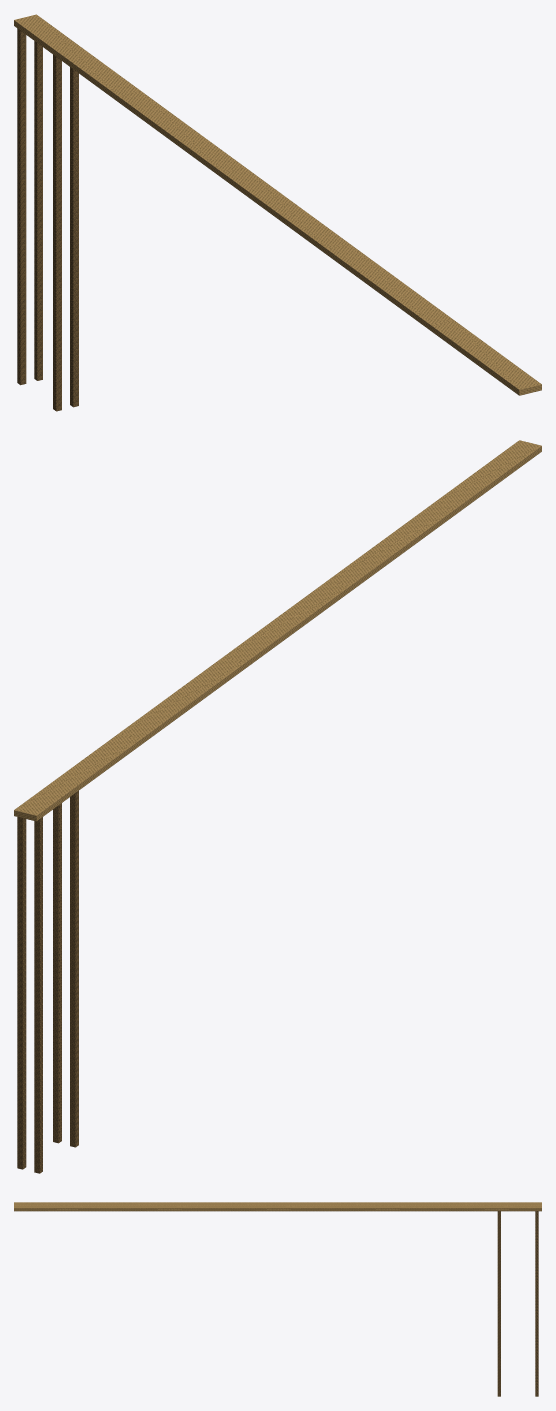
File: runway.obj
3 views of the same model, one above another, from view 1: azimuth 30°, elevation 25°; view 2: azimuth 150°, elevation 25°; view 3: azimuth 270°, elevation 25° (orthographic). The views are drawn at different scales.
Visible parts, largest first — view 1: Oak_Planks, Oak_Log; view 2: Oak_Planks, Oak_Log; view 3: Oak_Planks, Oak_Log.
Boxes of the visible parts, x1,y1,x2,y2 form: Oak_Planks: [14, 14, 541, 395]; Oak_Log: [17, 28, 78, 411]; Oak_Planks: [14, 440, 541, 821]; Oak_Log: [17, 791, 78, 1173]; Oak_Planks: [14, 1202, 541, 1211]; Oak_Log: [497, 1211, 538, 1396].
Bounding box in the file's own units: 4 × 61 × 155.
2 materials, 2 textured.
